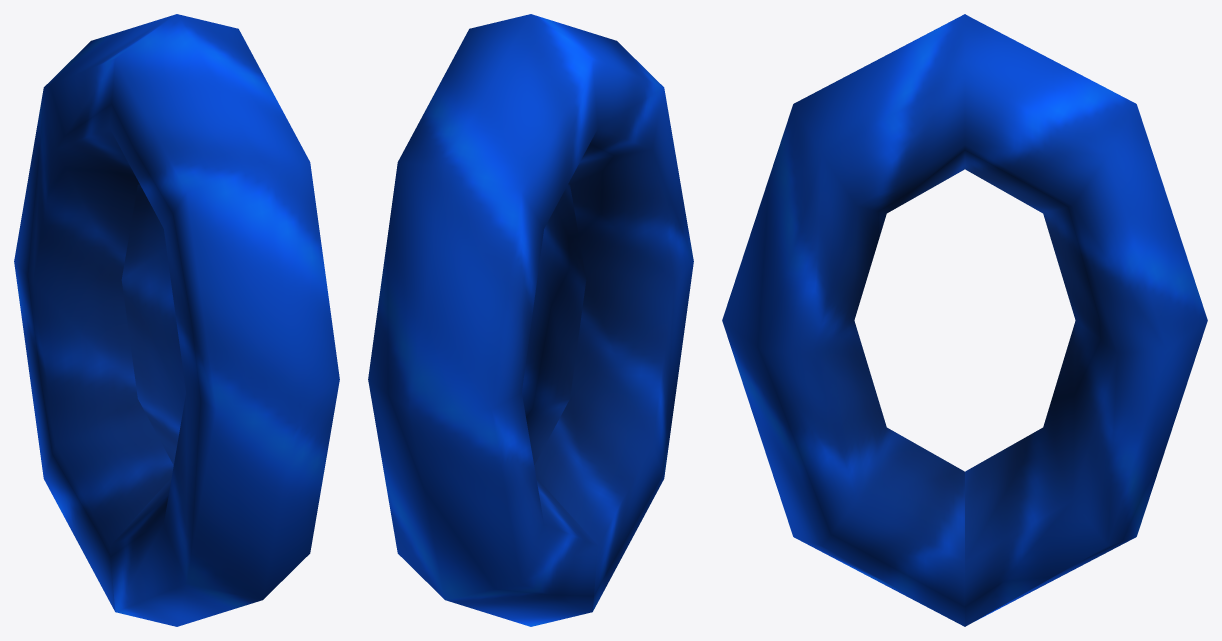
File: String_Loop_B.fbx
3 views of the same model, side by side, from view 1: azimuth 30°, elevation 25°; view 2: azimuth 150°, elevation 25°; view 3: azimuth 270°, elevation 25° (orthographic).
Visible parts, largest first — view 1: String_Loop_B; view 2: String_Loop_B; view 3: String_Loop_B.
Boxes of the visible parts, box(x1,y1,x2,y2) form: String_Loop_B: box(14, 14, 339, 626); String_Loop_B: box(368, 14, 693, 626); String_Loop_B: box(722, 14, 1207, 626).
Bounding box in the file's own units: 2.56 × 11.15 × 8.01.
Materials: 1 (1 with a texture image).
